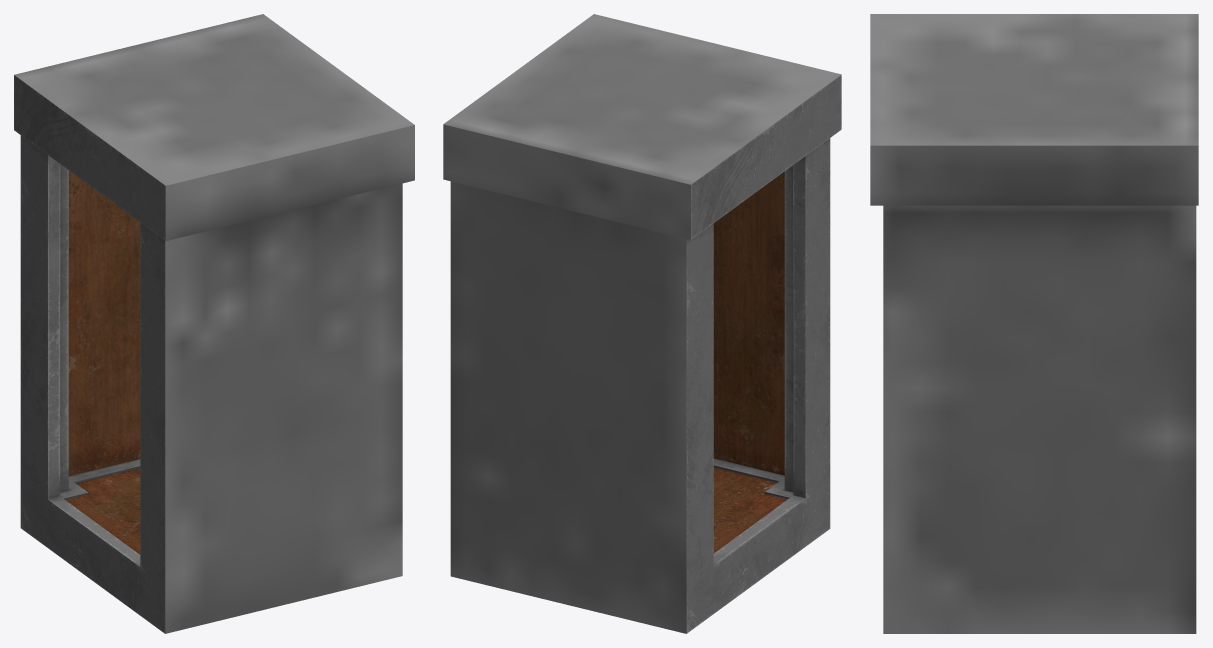
Rendered from Cabin_Littel_Part1.fbx.
3 views of the same model, side by side, from view 1: azimuth 30°, elevation 25°; view 2: azimuth 150°, elevation 25°; view 3: azimuth 270°, elevation 25° (orthographic). The views are drawn at different scales.
Parts seen in each view (by area): view 1: Low.002; view 2: Low.002; view 3: Low.002.
Part boxes in pixels (x1,y1,x2,y2): Low.002: (14,14,414,633); Low.002: (443,14,841,633); Low.002: (870,14,1198,633).
Bounding box in the file's own units: 223 × 235 × 388.
Materials: 1 (1 with a texture image).
